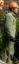hard-hat: (0, 0, 5, 5)
